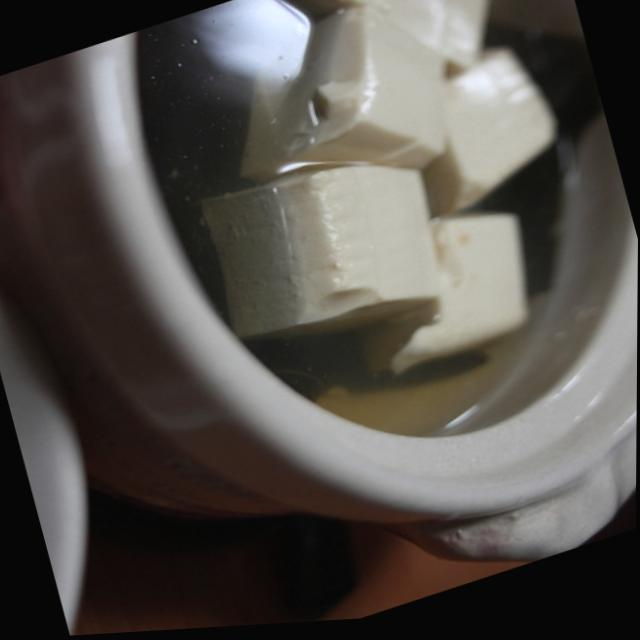豆腐料理: (25, 0, 640, 613)
